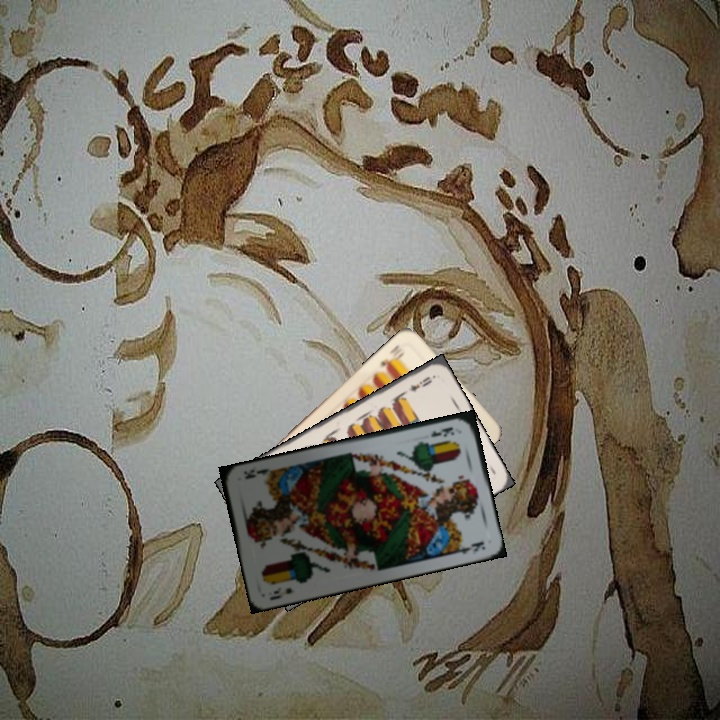E10: (375, 341, 407, 373)
E9: (404, 372, 435, 395)
EK: (266, 583, 297, 603), (427, 423, 456, 440)
